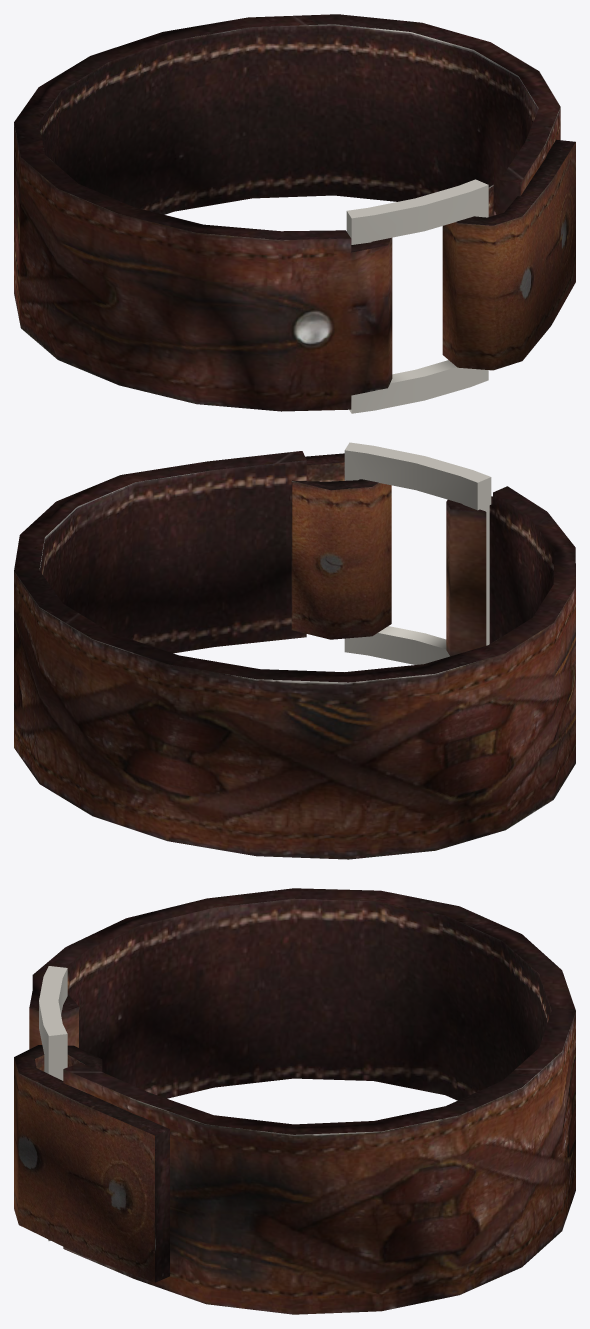
File: wristband.fbx
3 views of the same model, one above another, from view 1: azimuth 30°, elevation 25°; view 2: azimuth 150°, elevation 25°; view 3: azimuth 270°, elevation 25° (orthographic). The views are drawn at different scales.
Visible parts, largest first — view 1: polySurface17; view 2: polySurface17; view 3: polySurface17.
Boxes of the visible parts, x1,y1,x2,y2 form: polySurface17: (14,14,575,413); polySurface17: (14,442,575,859); polySurface17: (14,888,575,1314).
Size of the model in its own units: 7.63 by 2.96 by 7.35.
